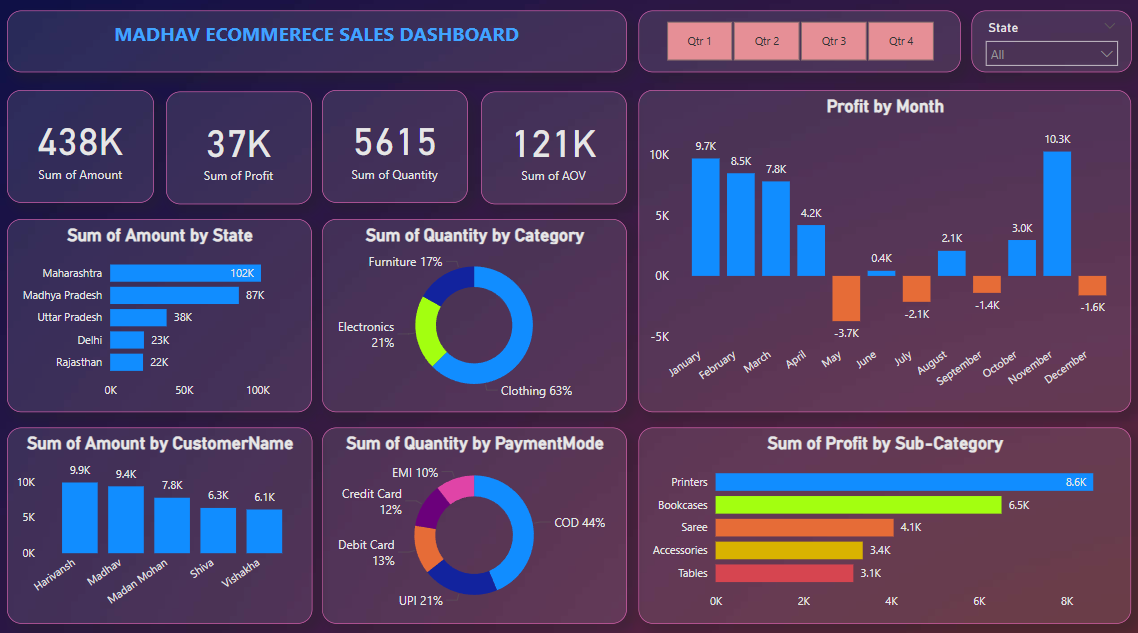

The page's visual inventory and layout, read from the dashboard file:
{"tool":"powerbi","page":{"name":"Page 1","canvas":[1280,720],"ordinal":0},"visuals":[{"type":"textbox","box":[17.5,14.3,688.7,68.4],"z":0},{"type":"columnChart","title":"Profit by Month","fields":{"Category":["Orders.Order Date.Variation.Date Hierarchy.Month"],"Y":["Details.Profit"]},"box":[719,103.4,547.2,357.9],"z":1000},{"type":"barChart","fields":{"Category":["Details.Sub-Category"],"Y":["Details.Profit"]},"box":[719,478.8,547.2,217.9],"z":2000},{"type":"donutChart","fields":{"Y":["Details.Quantity"],"Category":["Details.PaymentMode"]},"box":[367.4,478.8,338.8,217.9],"z":3000},{"type":"donutChart","fields":{"Y":["Details.Quantity"],"Category":["Details.Category"]},"box":[367.4,246.5,338.8,214.7],"z":4000},{"type":"clusteredBarChart","fields":{"Category":["Orders.State"],"Y":["Details.Amount"]},"box":[17.5,246.5,338.8,214.7],"z":5000},{"type":"card","fields":{"Values":["Details.Amount"]},"box":[17.5,103.4,163,125.7],"z":6000},{"type":"card","fields":{"Values":["Details.Profit"]},"box":[194.1,105,162.2,125.7],"z":7000},{"type":"card","fields":{"Values":["Details.Quantity"]},"box":[367.4,103.4,162.2,125.7],"z":8000},{"type":"card","fields":{"Values":["Details.AOV"]},"box":[544,105,162.2,125.7],"z":9000},{"type":"columnChart","fields":{"Y":["Details.Amount"],"Category":["Orders.CustomerName"]},"box":[17,479,339,218],"z":10000},{"type":"slicer","fields":{"Values":["Orders.Order Date.Variation.Date Hierarchy.Quarter"]},"box":[719,14.3,357.9,68.4],"z":11000},{"type":"slicer","fields":{"Values":["Orders.State"]},"box":[1088,14.3,178.1,68.4],"z":12000}]}

Visuals, with their boxes in screenshot pixels (x1, y1, x2, y2), scaled from the page's 1280x720 canvas onto the 1138x633 screenshot:
textbox: bbox=[16, 13, 628, 73]
"Profit by Month" columnChart: bbox=[639, 91, 1126, 406]
barChart - Details.Sub-Category x Details.Profit: bbox=[639, 421, 1126, 613]
donutChart - Details.Quantity x Details.PaymentMode: bbox=[327, 421, 628, 613]
donutChart - Details.Quantity x Details.Category: bbox=[327, 217, 628, 405]
clusteredBarChart - Orders.State x Details.Amount: bbox=[16, 217, 317, 405]
card - Details.Amount: bbox=[16, 91, 160, 201]
card - Details.Profit: bbox=[173, 92, 317, 203]
card - Details.Quantity: bbox=[327, 91, 471, 201]
card - Details.AOV: bbox=[484, 92, 628, 203]
columnChart - Details.Amount x Orders.CustomerName: bbox=[15, 421, 317, 613]
slicer - Orders.Order Date.Variation.Date Hierarchy.Quarter: bbox=[639, 13, 957, 73]
slicer - Orders.State: bbox=[967, 13, 1126, 73]
